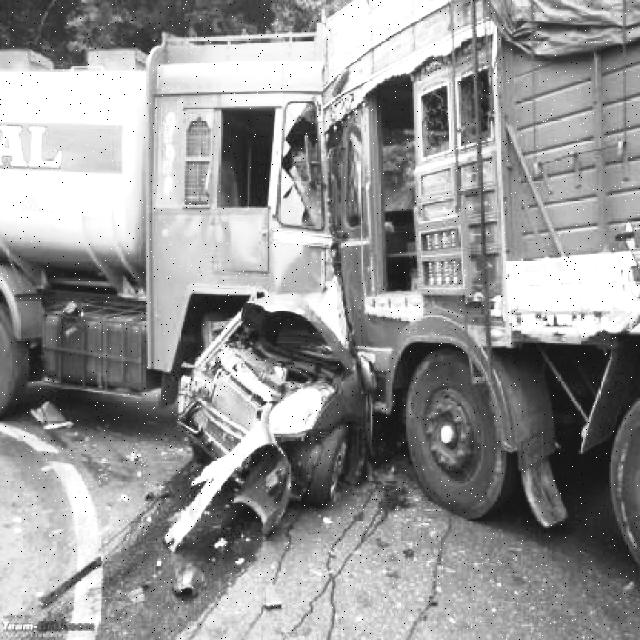HCV: (318, 10, 640, 562), (4, 30, 340, 438)
